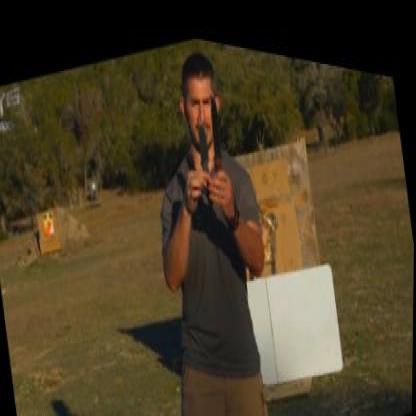knife: (178, 99, 218, 205), (201, 71, 232, 206)
